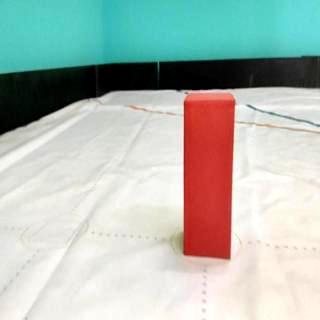redbox: (184, 92, 233, 260)
